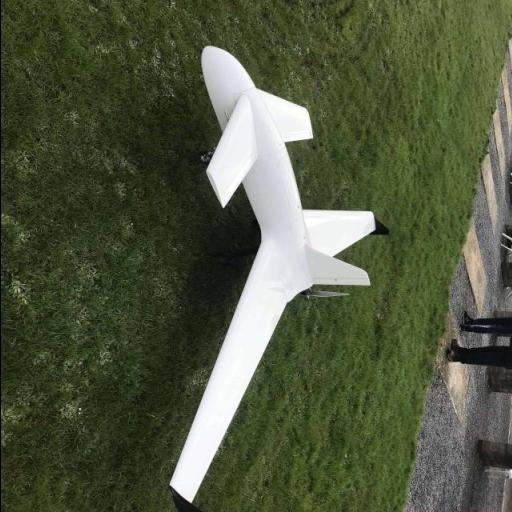uav: (137, 38, 386, 504)
